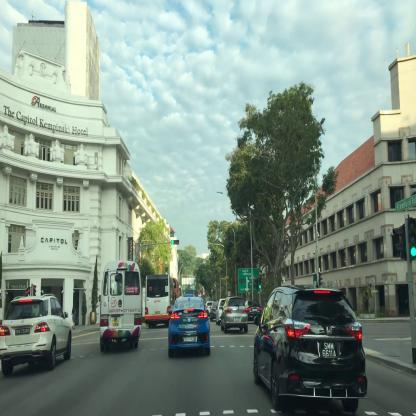green_traffic_light: (258, 277, 261, 289), (171, 240, 178, 244)
